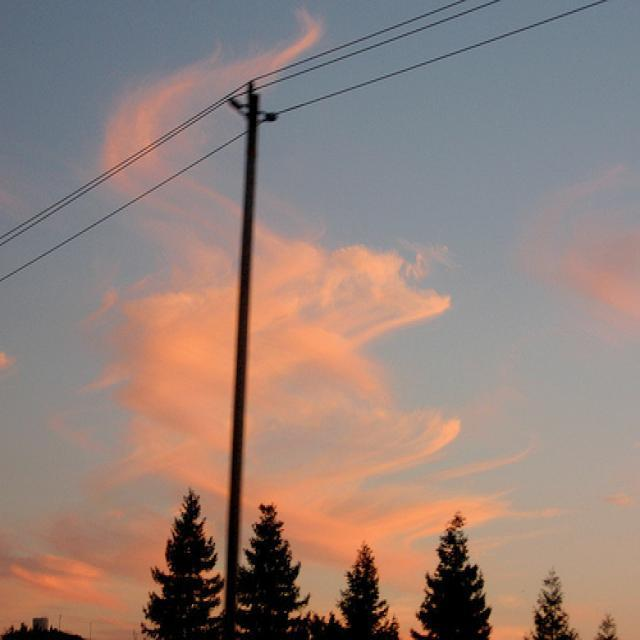pole: (223, 82, 280, 640)
wire: (0, 0, 611, 284), (0, 0, 504, 248), (0, 0, 469, 242)
